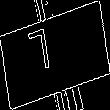L_S: (42, 27, 68, 83)
